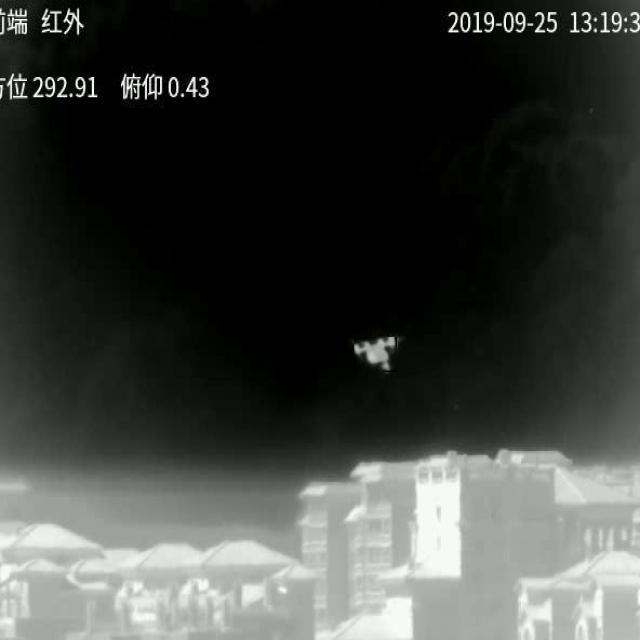drone: (354, 337, 397, 370)
